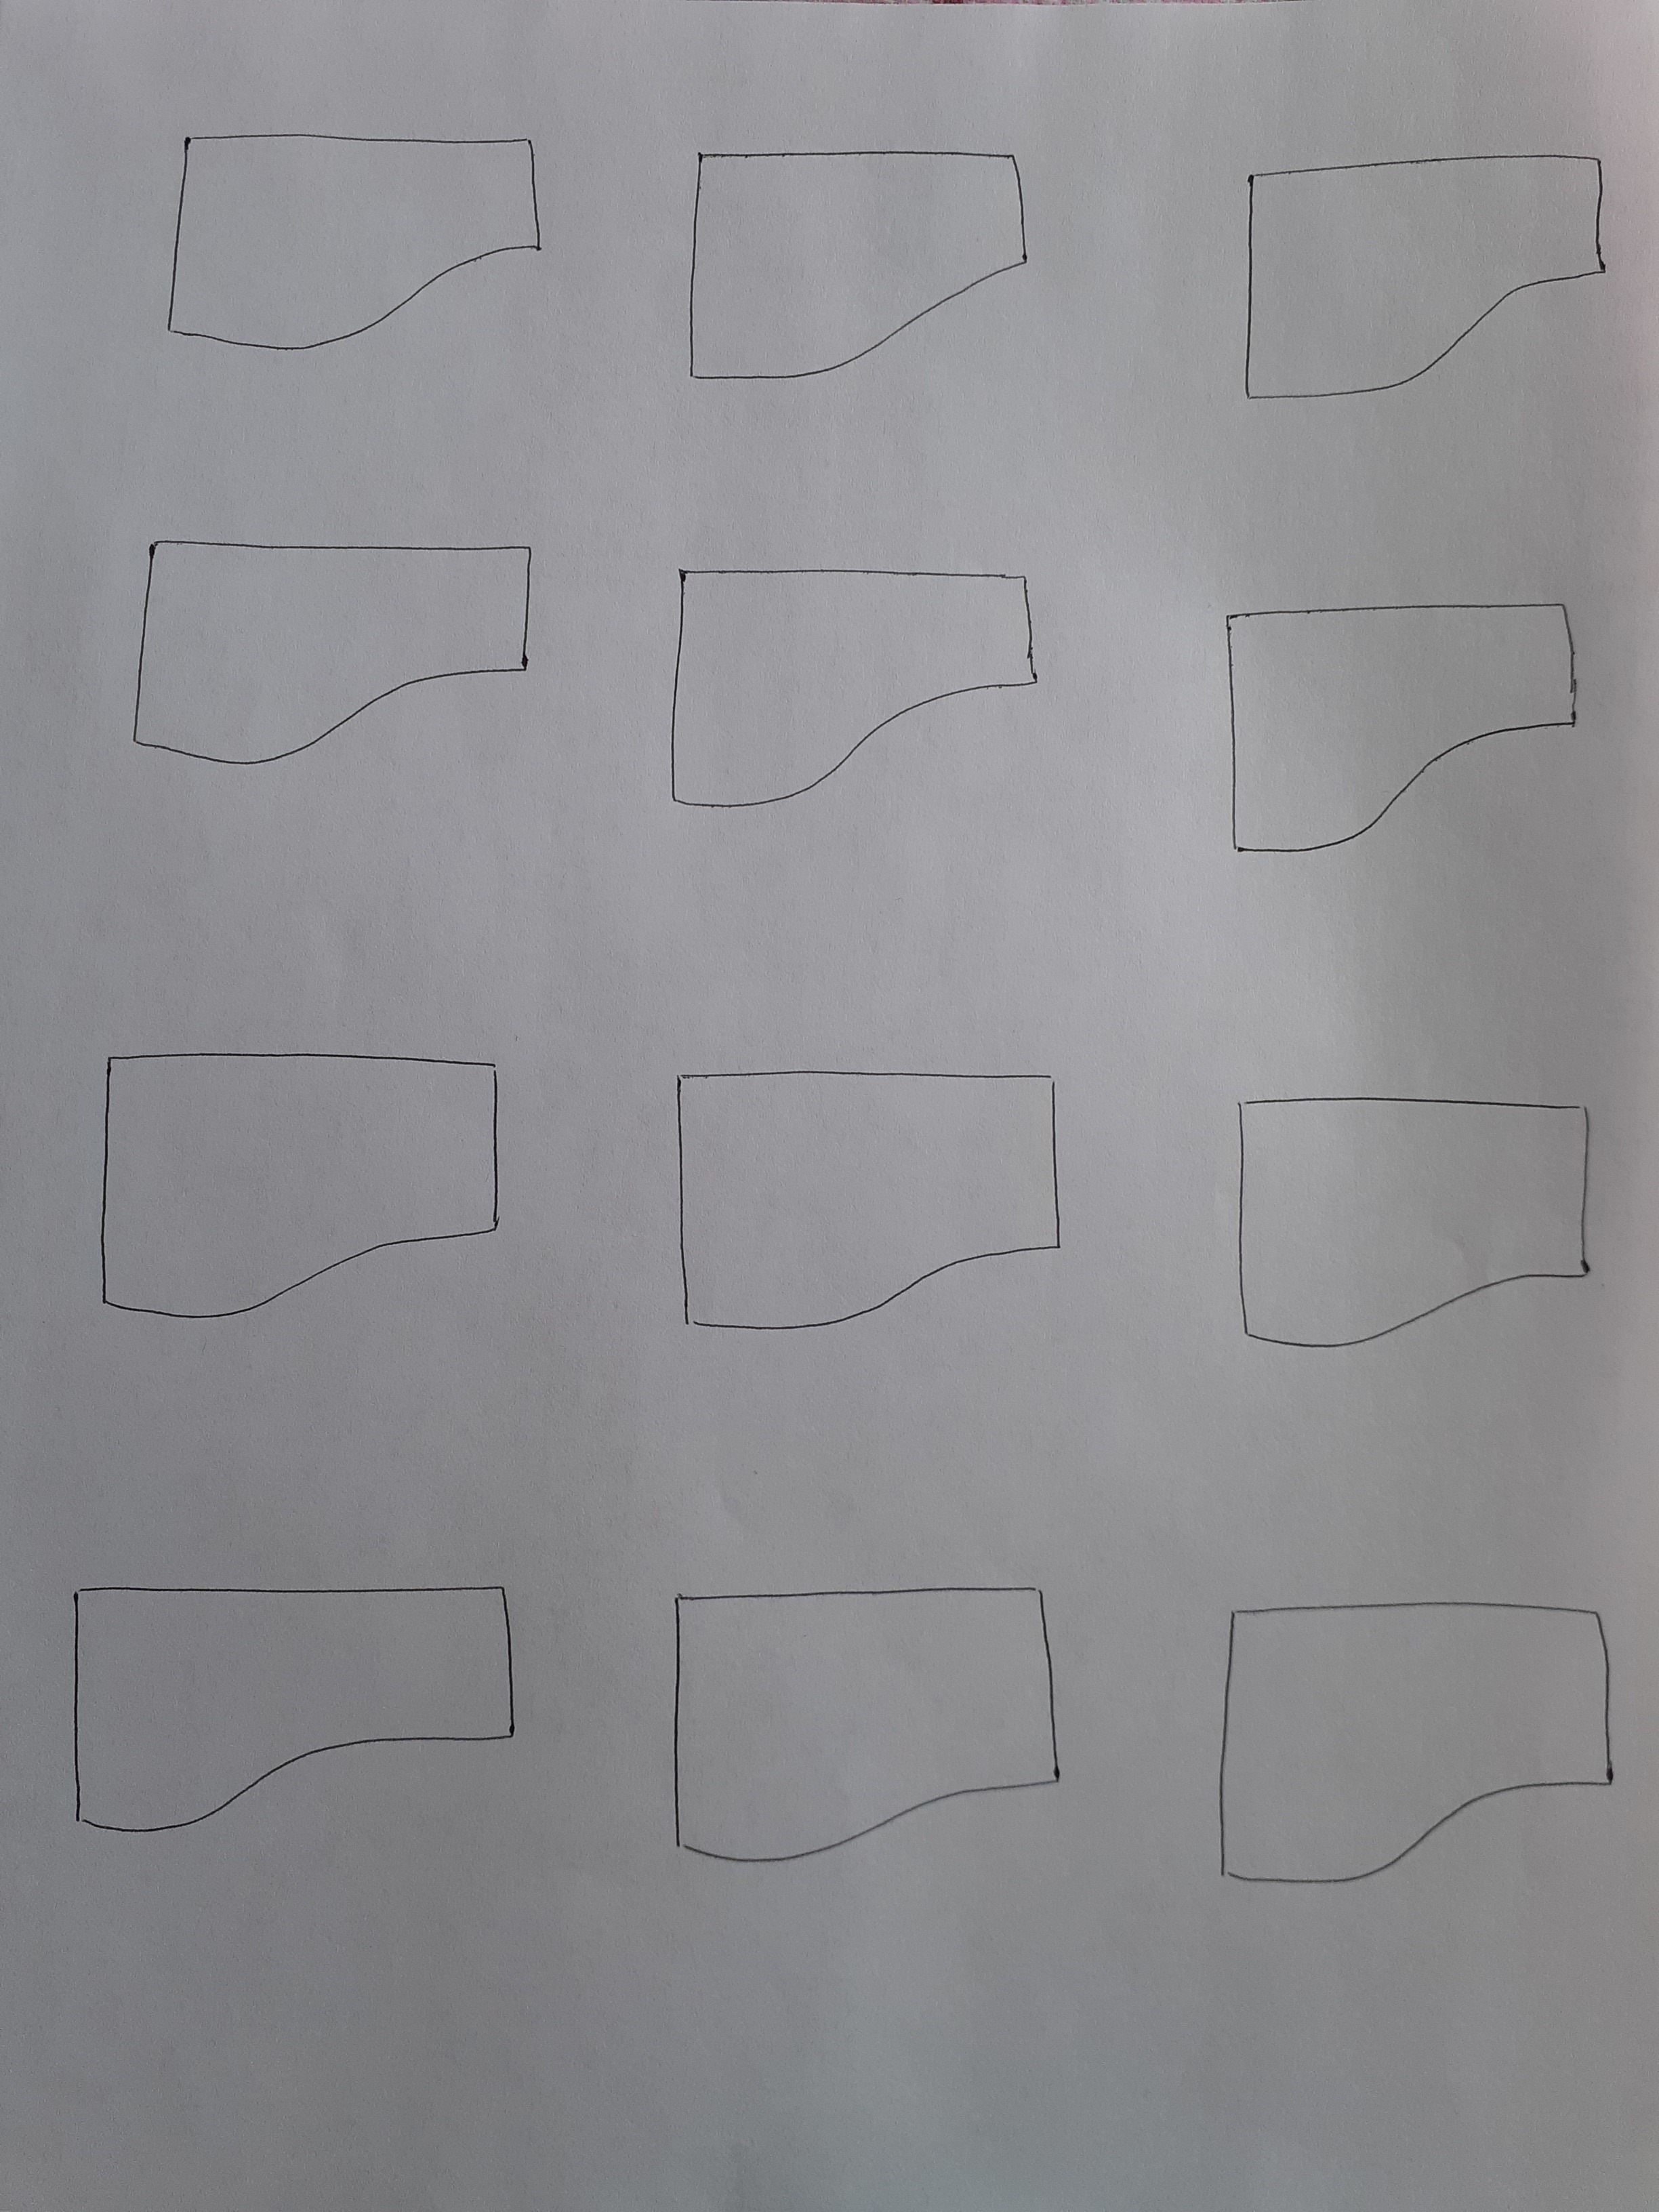print: (1176, 1564, 1647, 1919), (638, 1540, 1089, 1909), (627, 1035, 1079, 1378), (85, 1008, 519, 1350), (1194, 547, 1617, 880), (61, 1564, 537, 1858), (115, 486, 556, 794), (641, 526, 1047, 855), (1211, 1062, 1614, 1374), (157, 85, 559, 381), (667, 106, 1054, 408), (1220, 134, 1621, 418)
